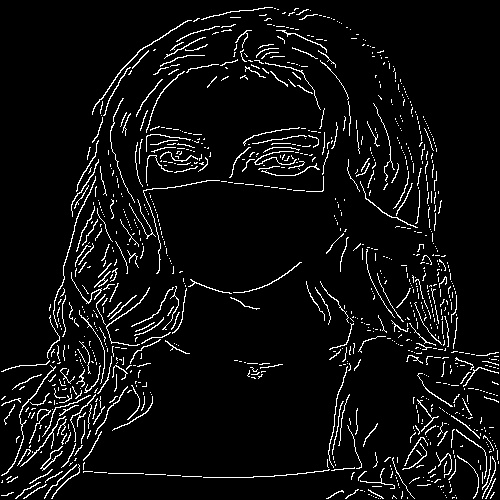mask: (143, 179, 327, 294)
